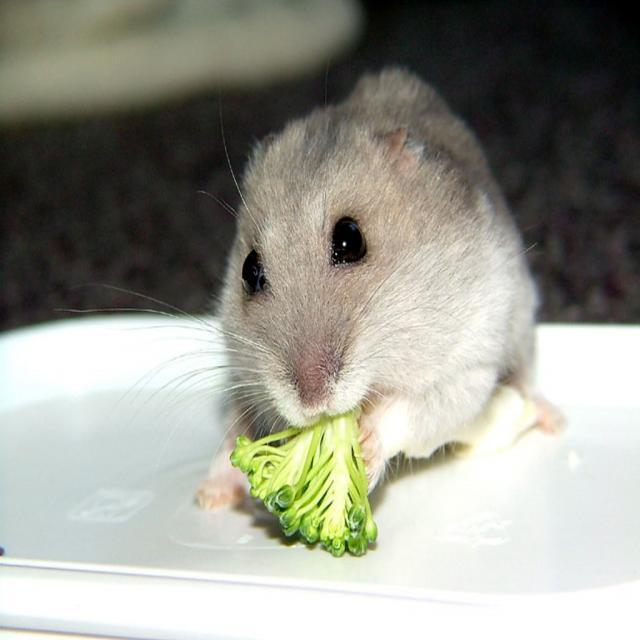rat: (66, 68, 564, 504)
